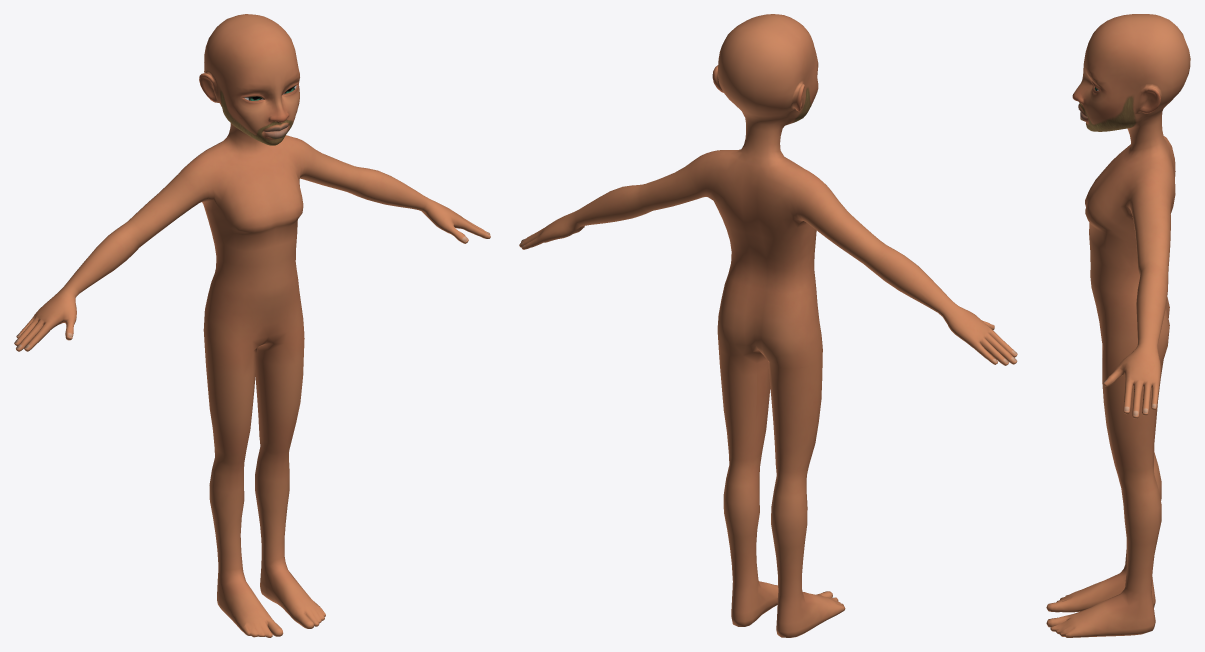
Rendered from frame_0077.glb.
The picture shows the model from 3 angles, left to right: view 1: azimuth 30°, elevation 25°; view 2: azimuth 150°, elevation 25°; view 3: azimuth 270°, elevation 25°; orthographic projection. The views are drawn at different scales.
Visible parts, largest first — view 1: frame_0077_head_geo; view 2: frame_0077_head_geo; view 3: frame_0077_head_geo.
Part boxes in pixels (left/top/right/bottom): frame_0077_head_geo: left=14, top=14, right=490, bottom=637; frame_0077_head_geo: left=519, top=14, right=1017, bottom=637; frame_0077_head_geo: left=1046, top=14, right=1190, bottom=637.
Size of the model in its own units: 1.28 by 1.5 by 0.3253.
3 materials, 3 textured.
